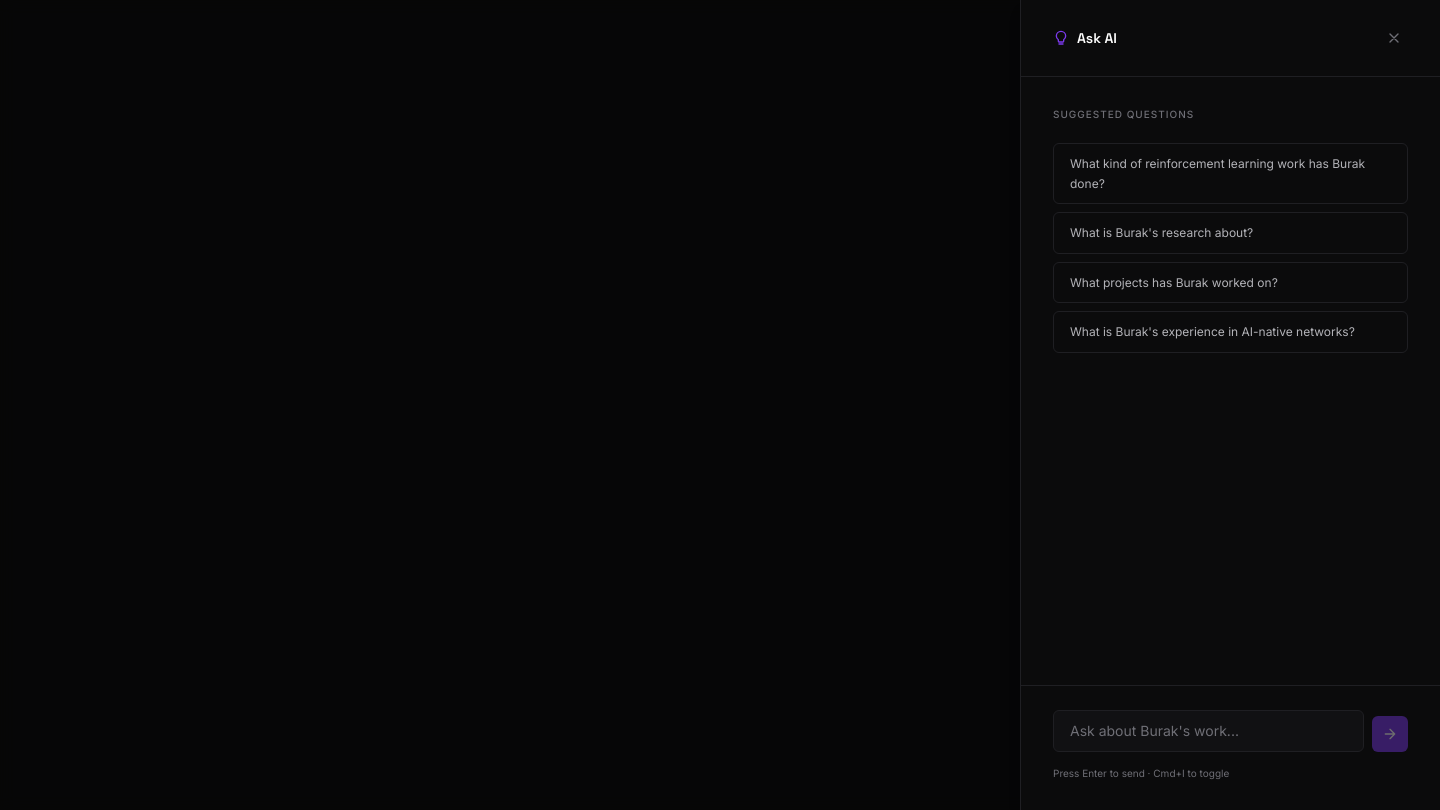
AskAIPanel › prevents double submit via loading guard
Type "Question 1" into the text box with placeholder "Ask about Burak's work..." at (1208,731), box [1053, 710, 1364, 752]
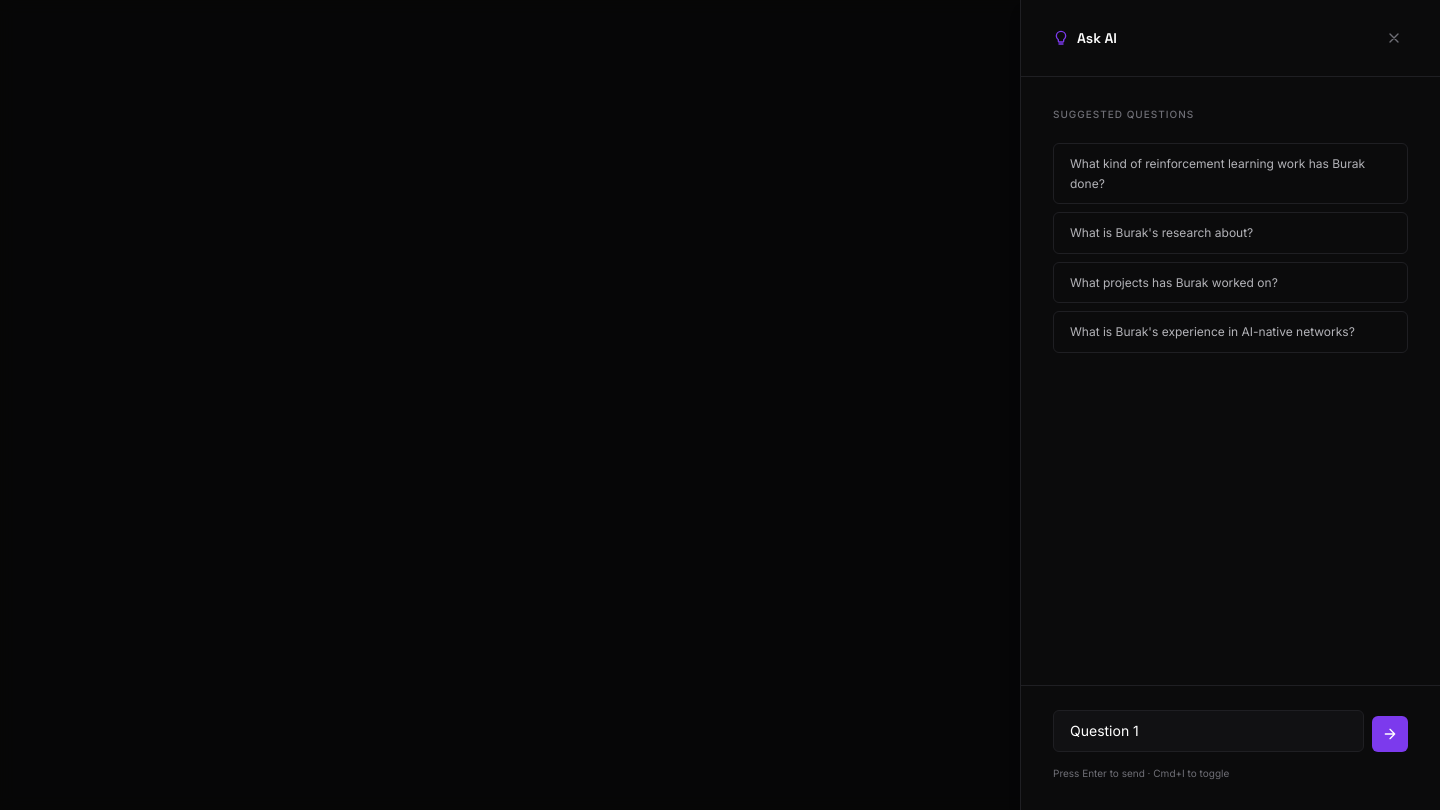
Press Enter in the text box with placeholder "Ask about Burak's work...", box [1053, 710, 1364, 752]
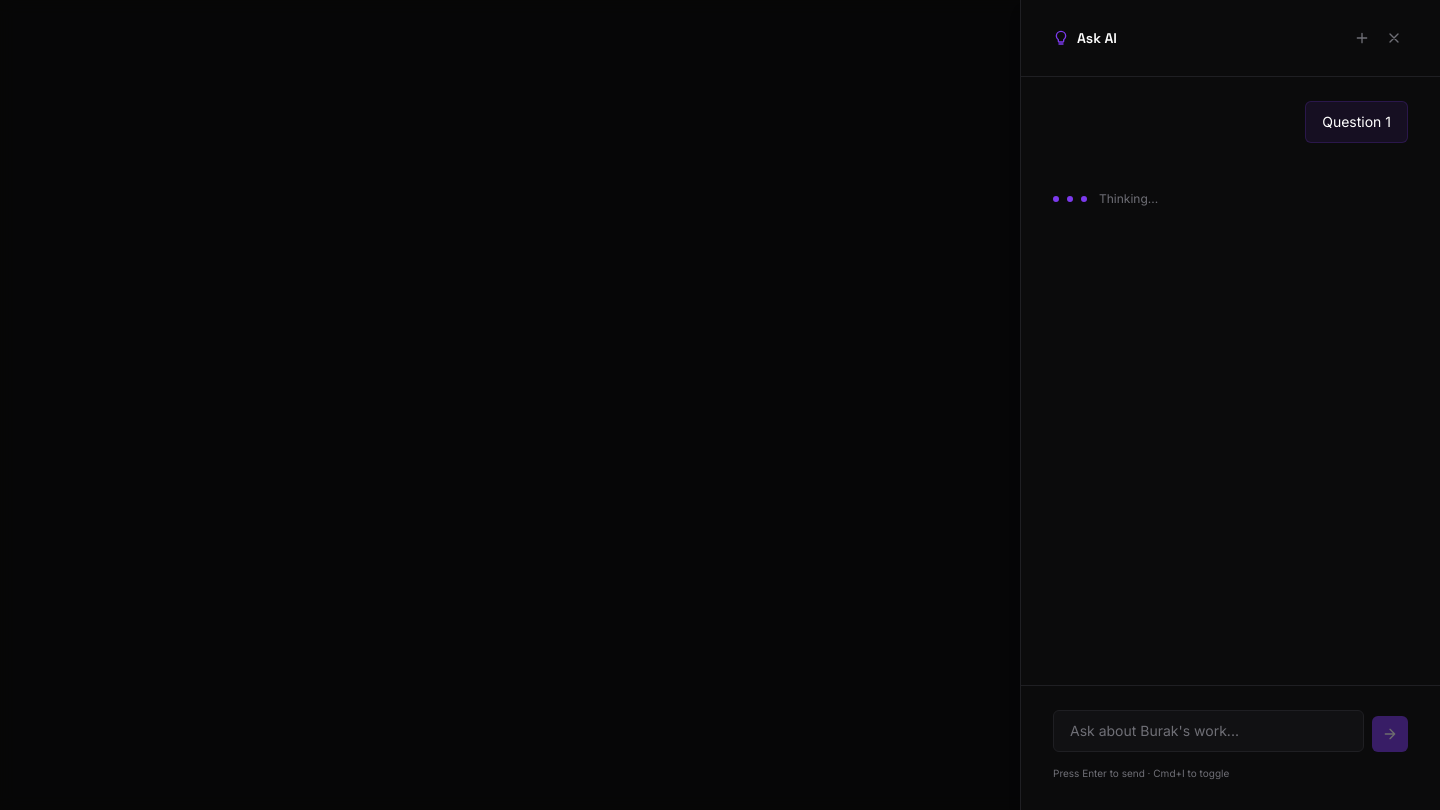
Note: Try submitting again while first is in-flight
Type "Question 2" into the text box with placeholder "Ask about Burak's work..." at (1208,731), box [1053, 710, 1364, 752]
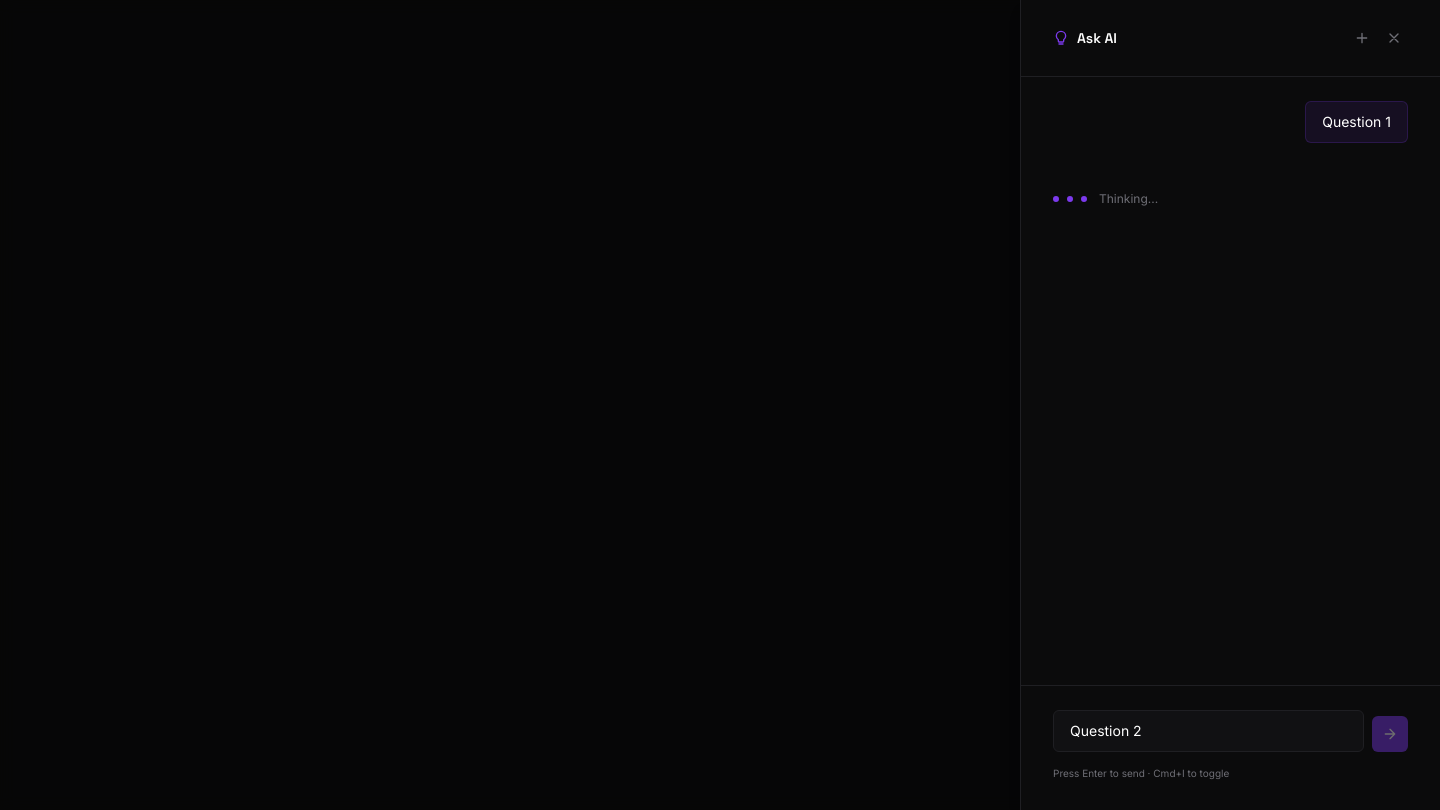
Press Enter in the text box with placeholder "Ask about Burak's work...", box [1053, 710, 1364, 752]
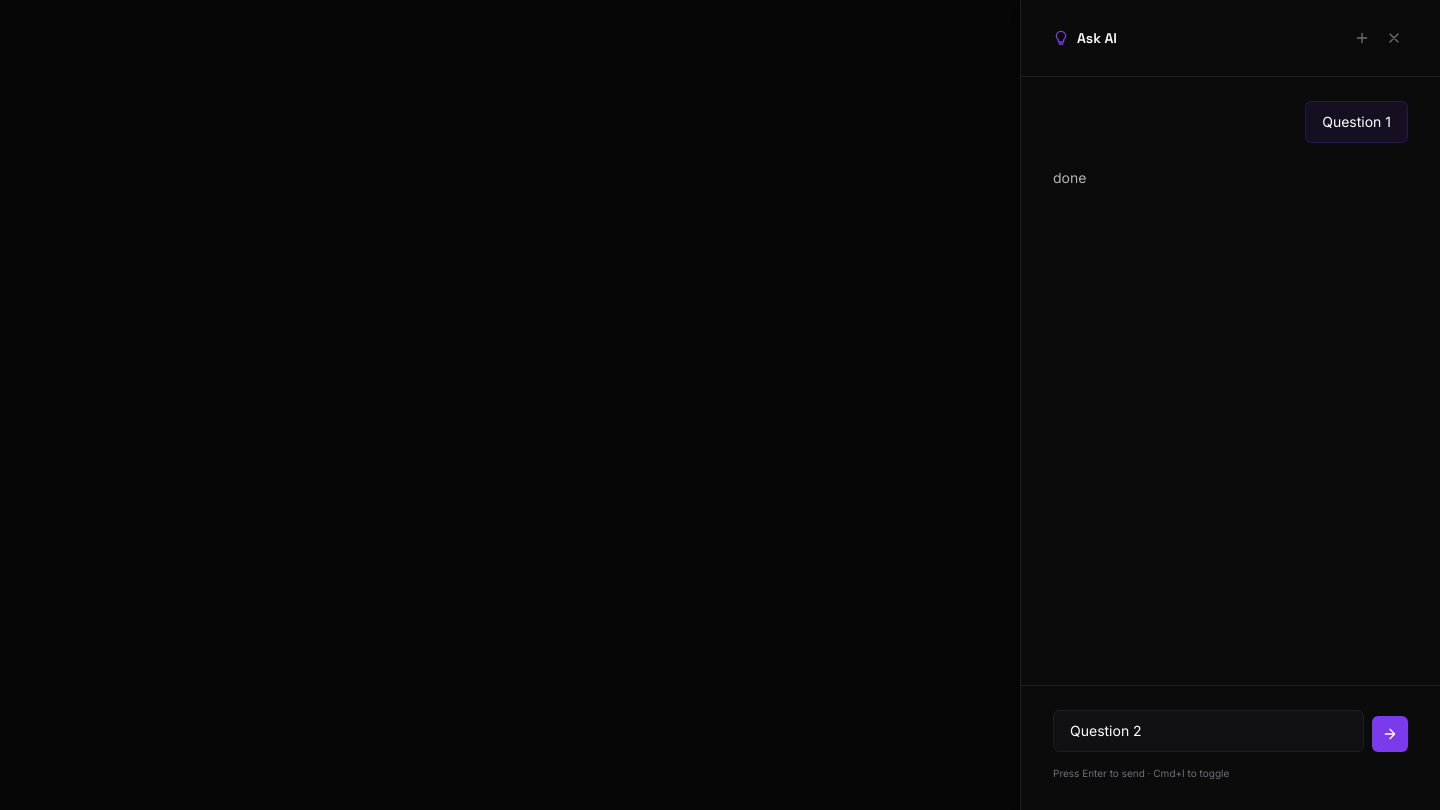
expect the text "done" is shown: met, box [1053, 169, 1086, 186]
